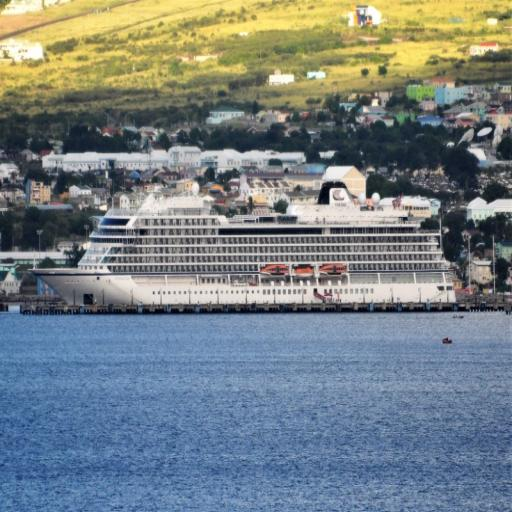cruises: (22, 181, 466, 324)
